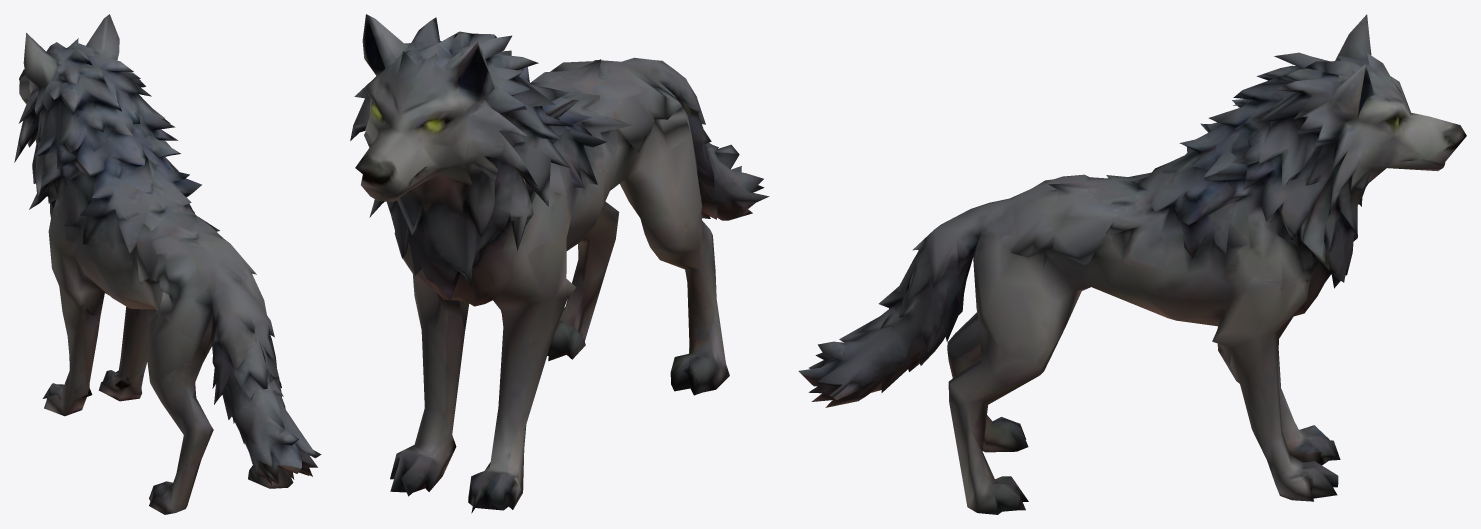
The model's file is mob_wolf.lo.glb.
3 renders of one model, left to right at view 1: azimuth 30°, elevation 25°; view 2: azimuth 150°, elevation 25°; view 3: azimuth 270°, elevation 25°, orthographic. The views are drawn at different scales.
Visible parts, largest first — view 1: tripo_node_dbc37bb4-e544-45d1-ba56-a04a98efe72f; view 2: tripo_node_dbc37bb4-e544-45d1-ba56-a04a98efe72f; view 3: tripo_node_dbc37bb4-e544-45d1-ba56-a04a98efe72f.
Part boxes in pixels (x1=…): tripo_node_dbc37bb4-e544-45d1-ba56-a04a98efe72f: x1=14, y1=14, x2=321, y2=514; tripo_node_dbc37bb4-e544-45d1-ba56-a04a98efe72f: x1=350, y1=14, x2=769, y2=513; tripo_node_dbc37bb4-e544-45d1-ba56-a04a98efe72f: x1=798, y1=14, x2=1466, y2=514.
Size of the model in its own units: 0.2891 by 0.7199 by 1.
Materials: 1 (1 with a texture image).
